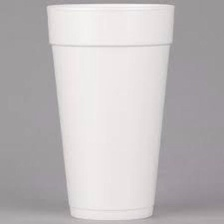paper_cup: (39, 0, 179, 224)
